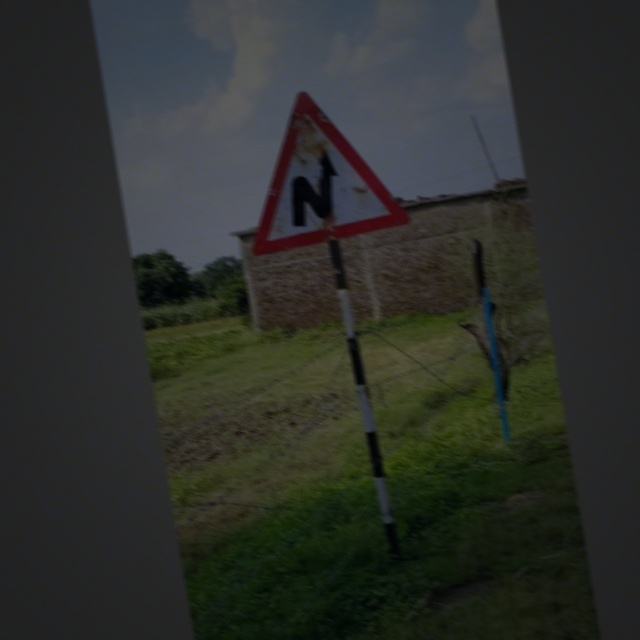Right_Reverse_Bend: (229, 78, 405, 252)
